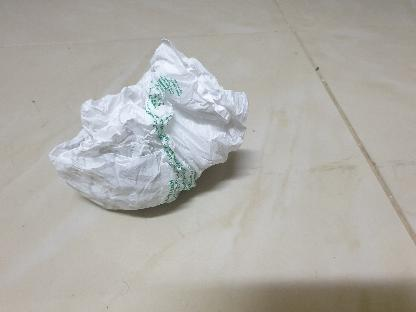Plastic Bag: (39, 34, 251, 216)
